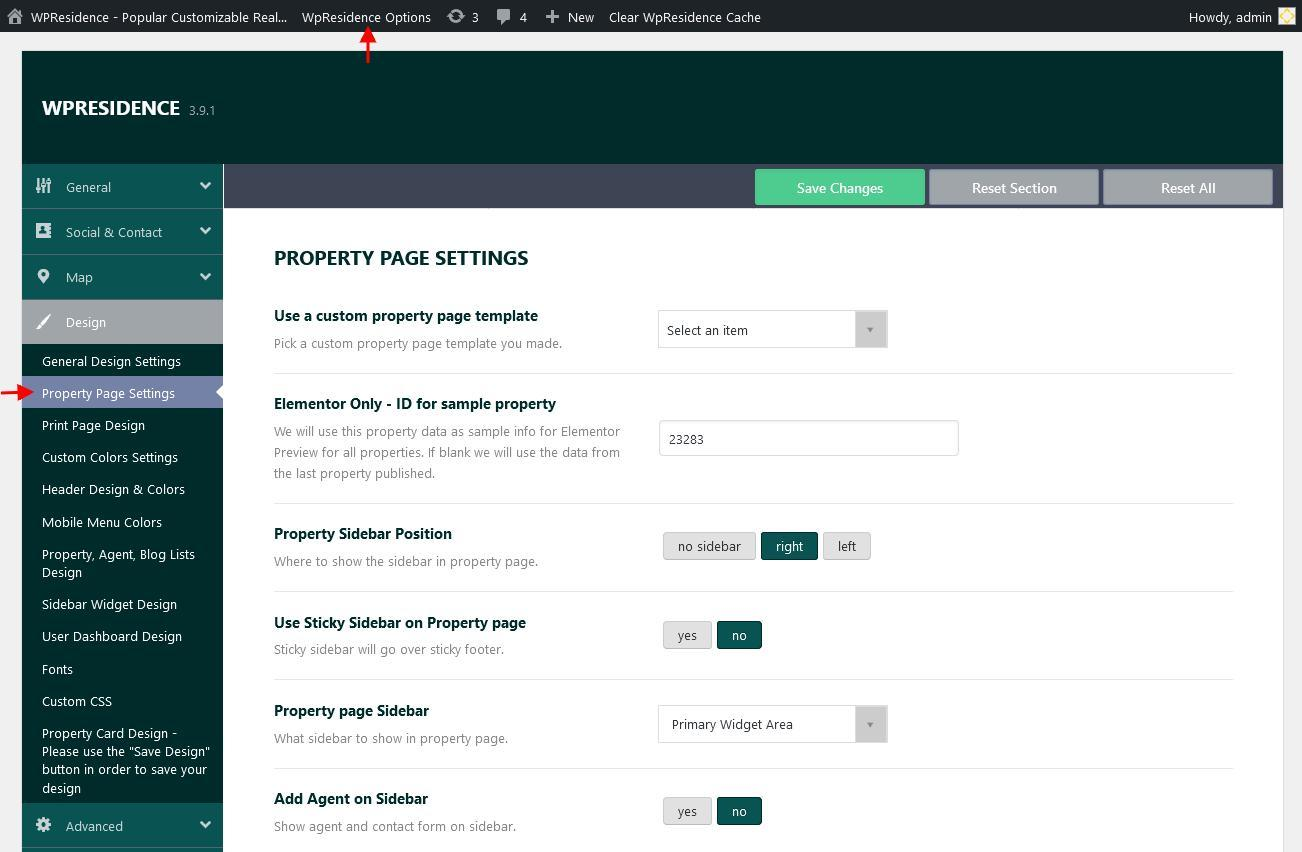button: (24, 299, 223, 346), (23, 377, 225, 409), (756, 170, 925, 206), (1103, 171, 1274, 205), (933, 171, 1101, 205), (665, 532, 758, 559), (823, 531, 873, 560), (762, 534, 818, 559), (664, 798, 712, 825), (718, 622, 760, 650), (667, 624, 713, 649), (719, 797, 761, 824)
dropdown: (25, 209, 225, 255), (24, 165, 224, 210), (24, 257, 225, 301), (658, 310, 889, 348), (24, 806, 224, 849), (659, 707, 888, 743)
icon: (494, 6, 514, 28), (446, 9, 468, 27), (6, 9, 25, 27), (548, 9, 562, 27)
input: (661, 420, 961, 456)
label: (276, 391, 559, 418), (270, 246, 536, 273), (272, 613, 529, 637), (270, 307, 543, 329), (29, 9, 294, 29), (42, 550, 201, 583), (273, 702, 435, 725), (270, 525, 459, 544), (271, 790, 432, 810), (607, 8, 767, 28), (39, 483, 192, 502), (43, 631, 187, 648), (43, 597, 180, 614), (42, 355, 186, 371), (304, 12, 434, 29), (42, 452, 180, 467), (42, 516, 166, 532), (39, 415, 147, 433), (43, 696, 118, 712), (39, 661, 79, 678), (569, 10, 596, 28)
